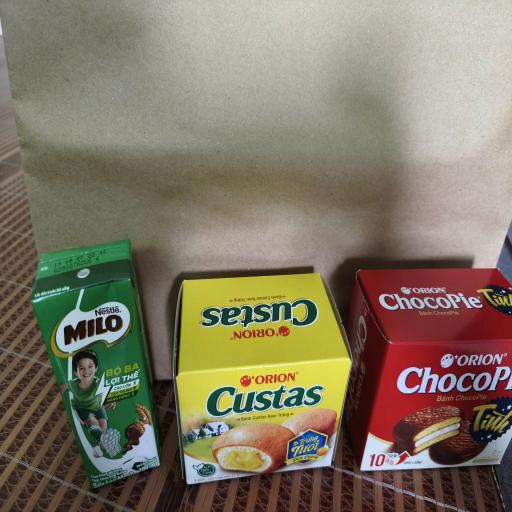chocopie: (345, 268, 512, 472)
custas: (172, 273, 352, 485)
milo: (30, 239, 162, 491)
